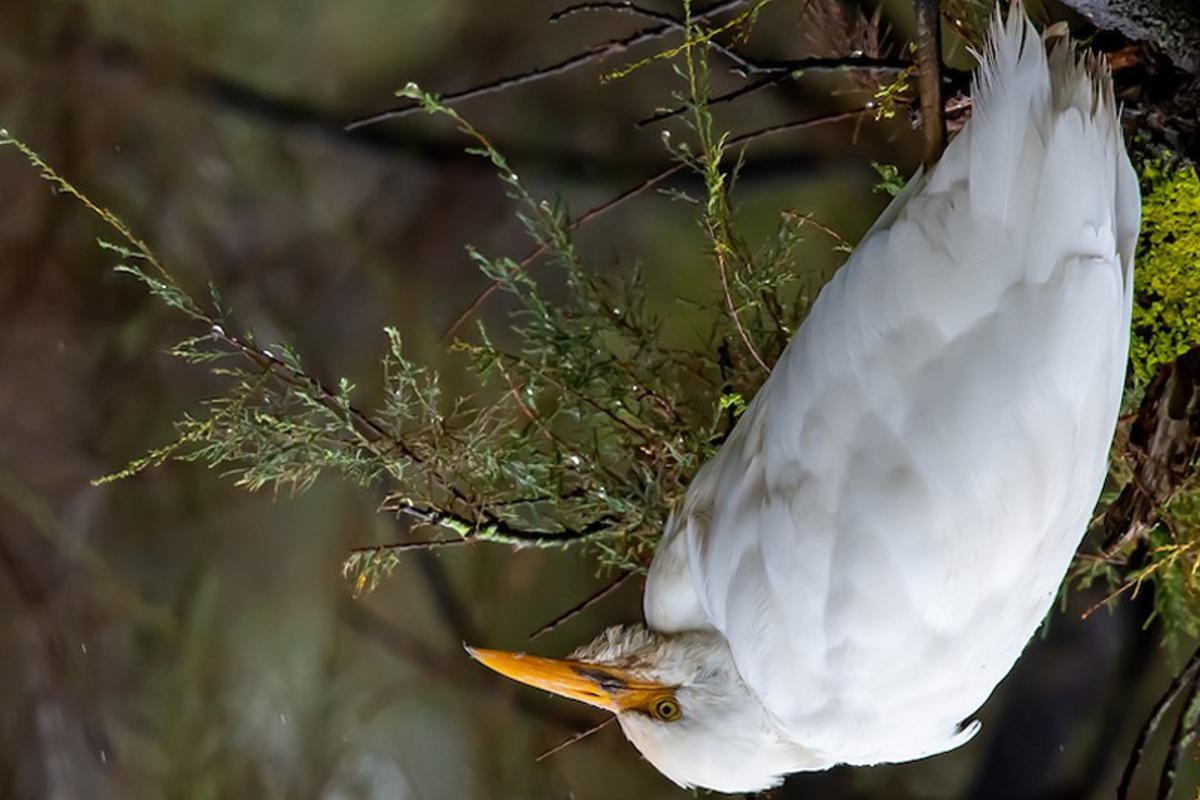egret: (454, 28, 1143, 793)
